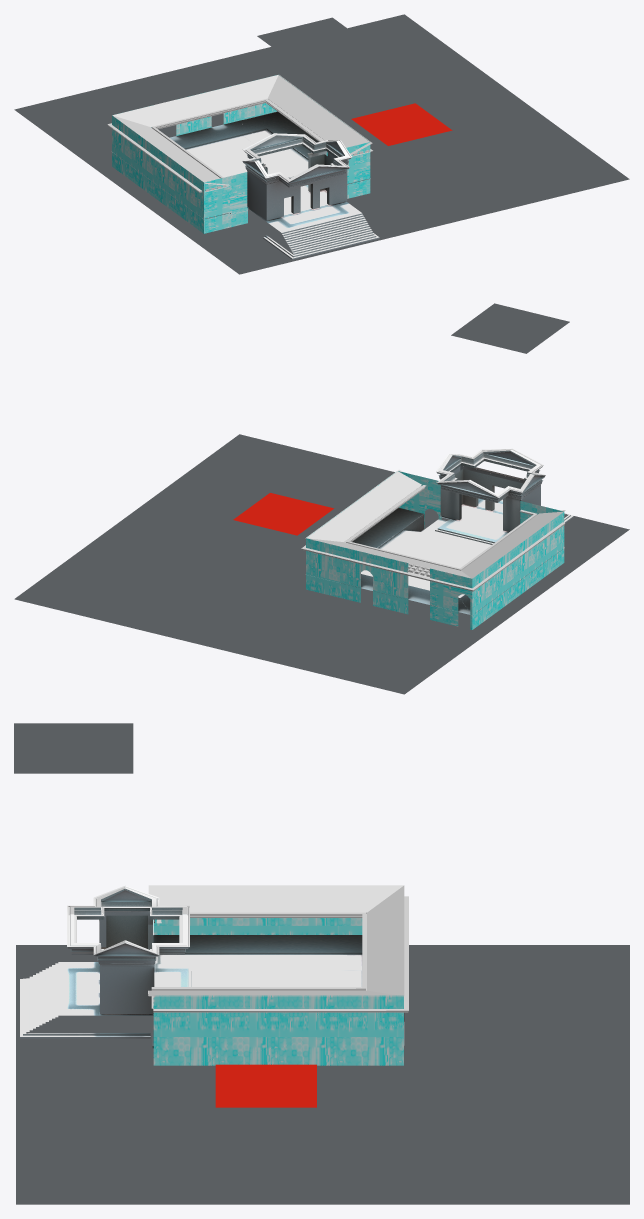
File: asklepieion-propylon.gltf
3 views of the same model, one above another, from view 1: azimuth 30°, elevation 25°; view 2: azimuth 150°, elevation 25°; view 3: azimuth 270°, elevation 25° (orthographic). The views are drawn at different scales.
Parts seen in each view (by area): view 1: Plane, propylon-court-floor, propylon-court-walls, propylon-court-roof, Plane.001, propylon-cornice, propylon-walls, Plane.002, propylon-court-cornice; view 2: Plane, propylon-court-walls, propylon-court-floor, propylon-court-roof, Plane.001, propylon-cornice, propylon-walls, Plane.002, propylon-court-cornice; view 3: Plane, propylon-court-walls, propylon-court-floor, propylon-court-roof, Plane.001, propylon-cornice, Plane.002, propylon-walls, propylon-court-cornice.
Part boxes in pixels (x1,y1,x2,y2): Plane: (14, 14, 629, 274); propylon-court-floor: (112, 111, 379, 259); propylon-court-walls: (112, 74, 370, 233); propylon-court-roof: (112, 75, 372, 185); Plane.001: (257, 17, 375, 67); propylon-cornice: (242, 133, 352, 187); propylon-walls: (247, 151, 347, 220); Plane.002: (351, 103, 452, 145); propylon-court-cornice: (107, 99, 372, 192); Plane: (14, 434, 629, 694); propylon-court-walls: (306, 471, 564, 629); propylon-court-floor: (314, 498, 573, 614); propylon-court-roof: (305, 469, 565, 578); Plane.001: (451, 303, 569, 353); propylon-cornice: (436, 448, 545, 502); propylon-walls: (440, 466, 540, 531); Plane.002: (233, 493, 334, 535); propylon-court-cornice: (301, 485, 565, 591); Plane: (16, 945, 629, 1204); propylon-court-walls: (153, 918, 403, 1065); propylon-court-floor: (20, 934, 404, 1048); propylon-court-roof: (148, 885, 404, 996); Plane.001: (14, 723, 133, 773); propylon-cornice: (67, 885, 189, 965); Plane.002: (215, 1064, 316, 1107); propylon-walls: (100, 912, 154, 1013); propylon-court-cornice: (148, 896, 408, 1012).
Bounding box in the file's own units: 76.63 × 36.68 × 76.87.
Materials: 6 (4 with a texture image).
